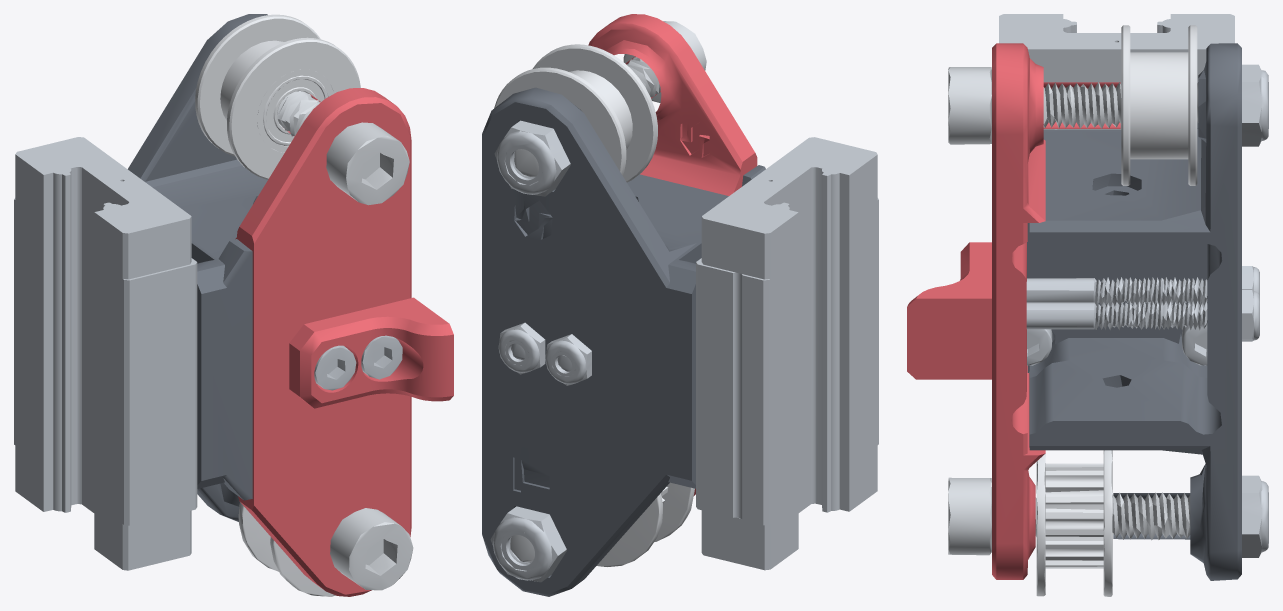
3 views of the same model, side by side, from view 1: azimuth 30°, elevation 25°; view 2: azimuth 150°, elevation 25°; view 3: azimuth 270°, elevation 25° (orthographic). The views are drawn at different scales.
Visible parts, largest first — view 1: y_sliding_block_left, gantry_top__1_, gantry_bottom__1_, x_end_stopper, component5, m5__30mm_titanium_socket_24, m5__30mm_titanium_socket, component6, pulley__1_, component1, m3_30mm_black-oxide_allo_23, m3_30mm_black-oxide_allo (+1 smaller); view 2: gantry_bottom__1_, y_sliding_block_left, gantry_top__1_, component5, component6, pulley__1_, m5_lock_n_nut_22, m5_lock_n_nut_26, m5__30mm_titanium_socket_24, m3_nut__2_, m3_nut__1___1_, component1 (+3 smaller); view 3: gantry_bottom__1_, gantry_top__1_, y_sliding_block_left, x_end_stopper, pulley__1_, m5__30mm_titanium_socket, m5__30mm_titanium_socket_24, component1, m3_30mm_black-oxide_allo, m3_30mm_black-oxide_allo_23, m5_lock_n_nut_22, m5_lock_n_nut_26 (+5 smaller).
Part boxes in pixels (x1,y1,x2,y2): y_sliding_block_left: [14, 137, 197, 570]; gantry_top__1_: [235, 88, 411, 596]; gantry_bottom__1_: [128, 14, 267, 521]; x_end_stopper: [289, 297, 453, 408]; component5: [227, 37, 360, 179]; m5__30mm_titanium_socket_24: [277, 91, 409, 205]; m5__30mm_titanium_socket: [330, 508, 413, 590]; component6: [195, 14, 320, 156]; pulley__1_: [238, 502, 335, 596]; component1: [220, 40, 333, 152]; m3_30mm_black-oxide_allo_23: [314, 345, 356, 390]; m3_30mm_black-oxide_allo: [361, 335, 402, 379]; gantry_bottom__1_: [482, 87, 765, 596]; y_sliding_block_left: [696, 137, 878, 570]; gantry_top__1_: [588, 14, 757, 495]; component5: [532, 44, 657, 182]; component6: [494, 67, 626, 175]; pulley__1_: [597, 482, 694, 566]; m5_lock_n_nut_22: [490, 506, 566, 582]; m5_lock_n_nut_26: [494, 120, 570, 196]; m5__30mm_titanium_socket_24: [514, 21, 706, 176]; m3_nut__2_: [498, 322, 545, 374]; m3_nut__1___1_: [545, 334, 591, 385]; component1: [569, 70, 632, 149]; gantry_bottom__1_: [1027, 43, 1241, 580]; gantry_top__1_: [992, 43, 1120, 579]; y_sliding_block_left: [999, 14, 1234, 372]; x_end_stopper: [907, 242, 991, 379]; pulley__1_: [1036, 450, 1112, 596]; m5__30mm_titanium_socket: [948, 477, 1190, 555]; m5__30mm_titanium_socket_24: [948, 67, 1198, 144]; component1: [1130, 52, 1188, 159]; m3_30mm_black-oxide_allo: [1026, 301, 1207, 330]; m3_30mm_black-oxide_allo_23: [1026, 277, 1207, 305]; m5_lock_n_nut_22: [1242, 475, 1268, 557]; m5_lock_n_nut_26: [1242, 64, 1268, 146].
Bounding box in the file's own units: 0.0408 × 0.0685 × 0.0405.
